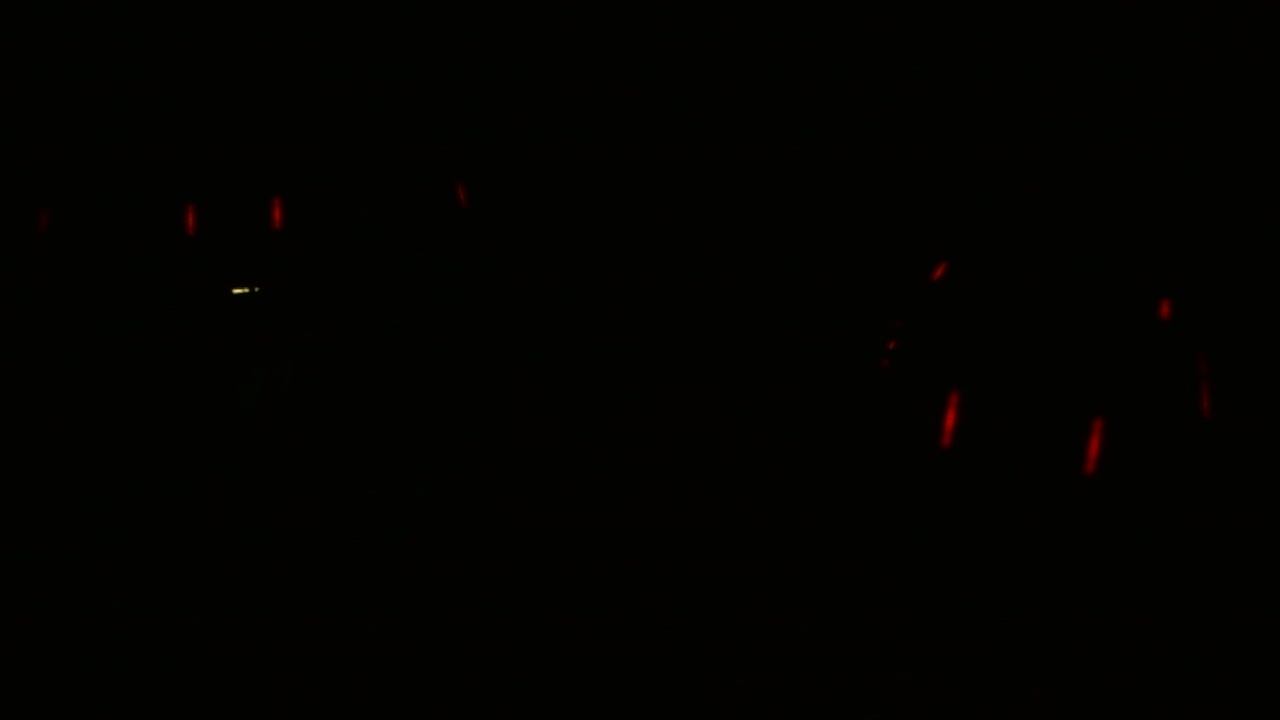pair1: (940, 379, 1106, 478), (182, 193, 289, 234)
